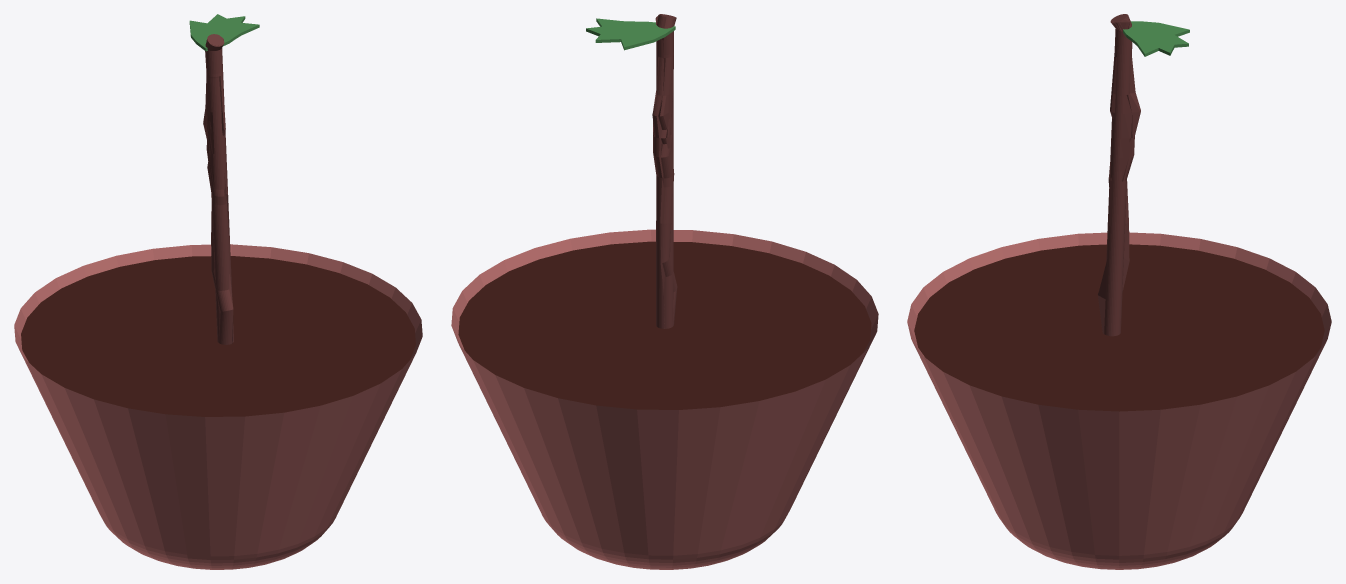
File: CWeedPlant.fbx
3 views of the same model, side by side, from view 1: azimuth 30°, elevation 25°; view 2: azimuth 150°, elevation 25°; view 3: azimuth 270°, elevation 25° (orthographic). The views are drawn at different scales.
Parts seen in each view (by area): view 1: Cylinder.001, Cylinder, Cylinder.002, Cube; view 2: Cylinder.001, Cylinder, Cylinder.002, Cube; view 3: Cylinder.001, Cylinder, Cylinder.002, Cube.
Boxes of the visible parts, bbox=[...] form: Cylinder.001: bbox=[21, 256, 415, 416]; Cylinder: bbox=[14, 244, 422, 569]; Cylinder.002: bbox=[203, 34, 233, 344]; Cube: bbox=[189, 14, 259, 51]; Cylinder.001: bbox=[458, 241, 871, 409]; Cylinder: bbox=[451, 229, 878, 569]; Cylinder.002: bbox=[652, 14, 677, 328]; Cube: bbox=[586, 18, 675, 50]; Cylinder.001: bbox=[914, 244, 1324, 411]; Cylinder: bbox=[907, 232, 1331, 569]; Cylinder.002: bbox=[1097, 14, 1140, 336]; Cube: bbox=[1123, 21, 1189, 56].
Size of the model in its own units: 361 by 486 by 361.
